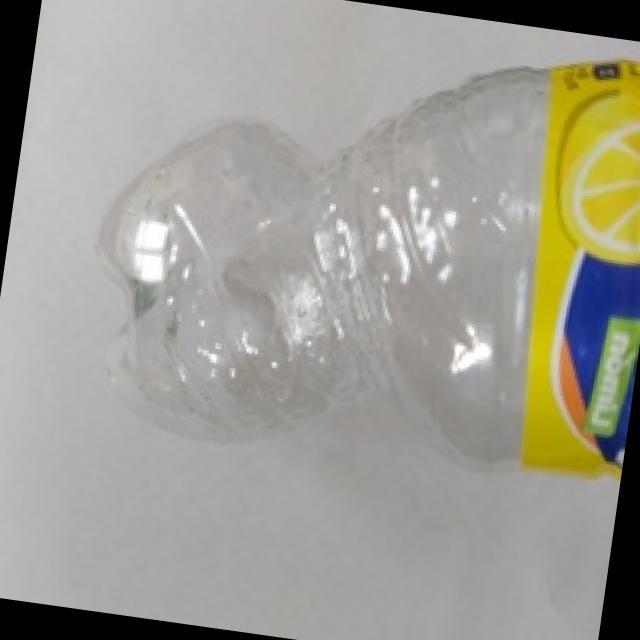good: (61, 1, 640, 483)
